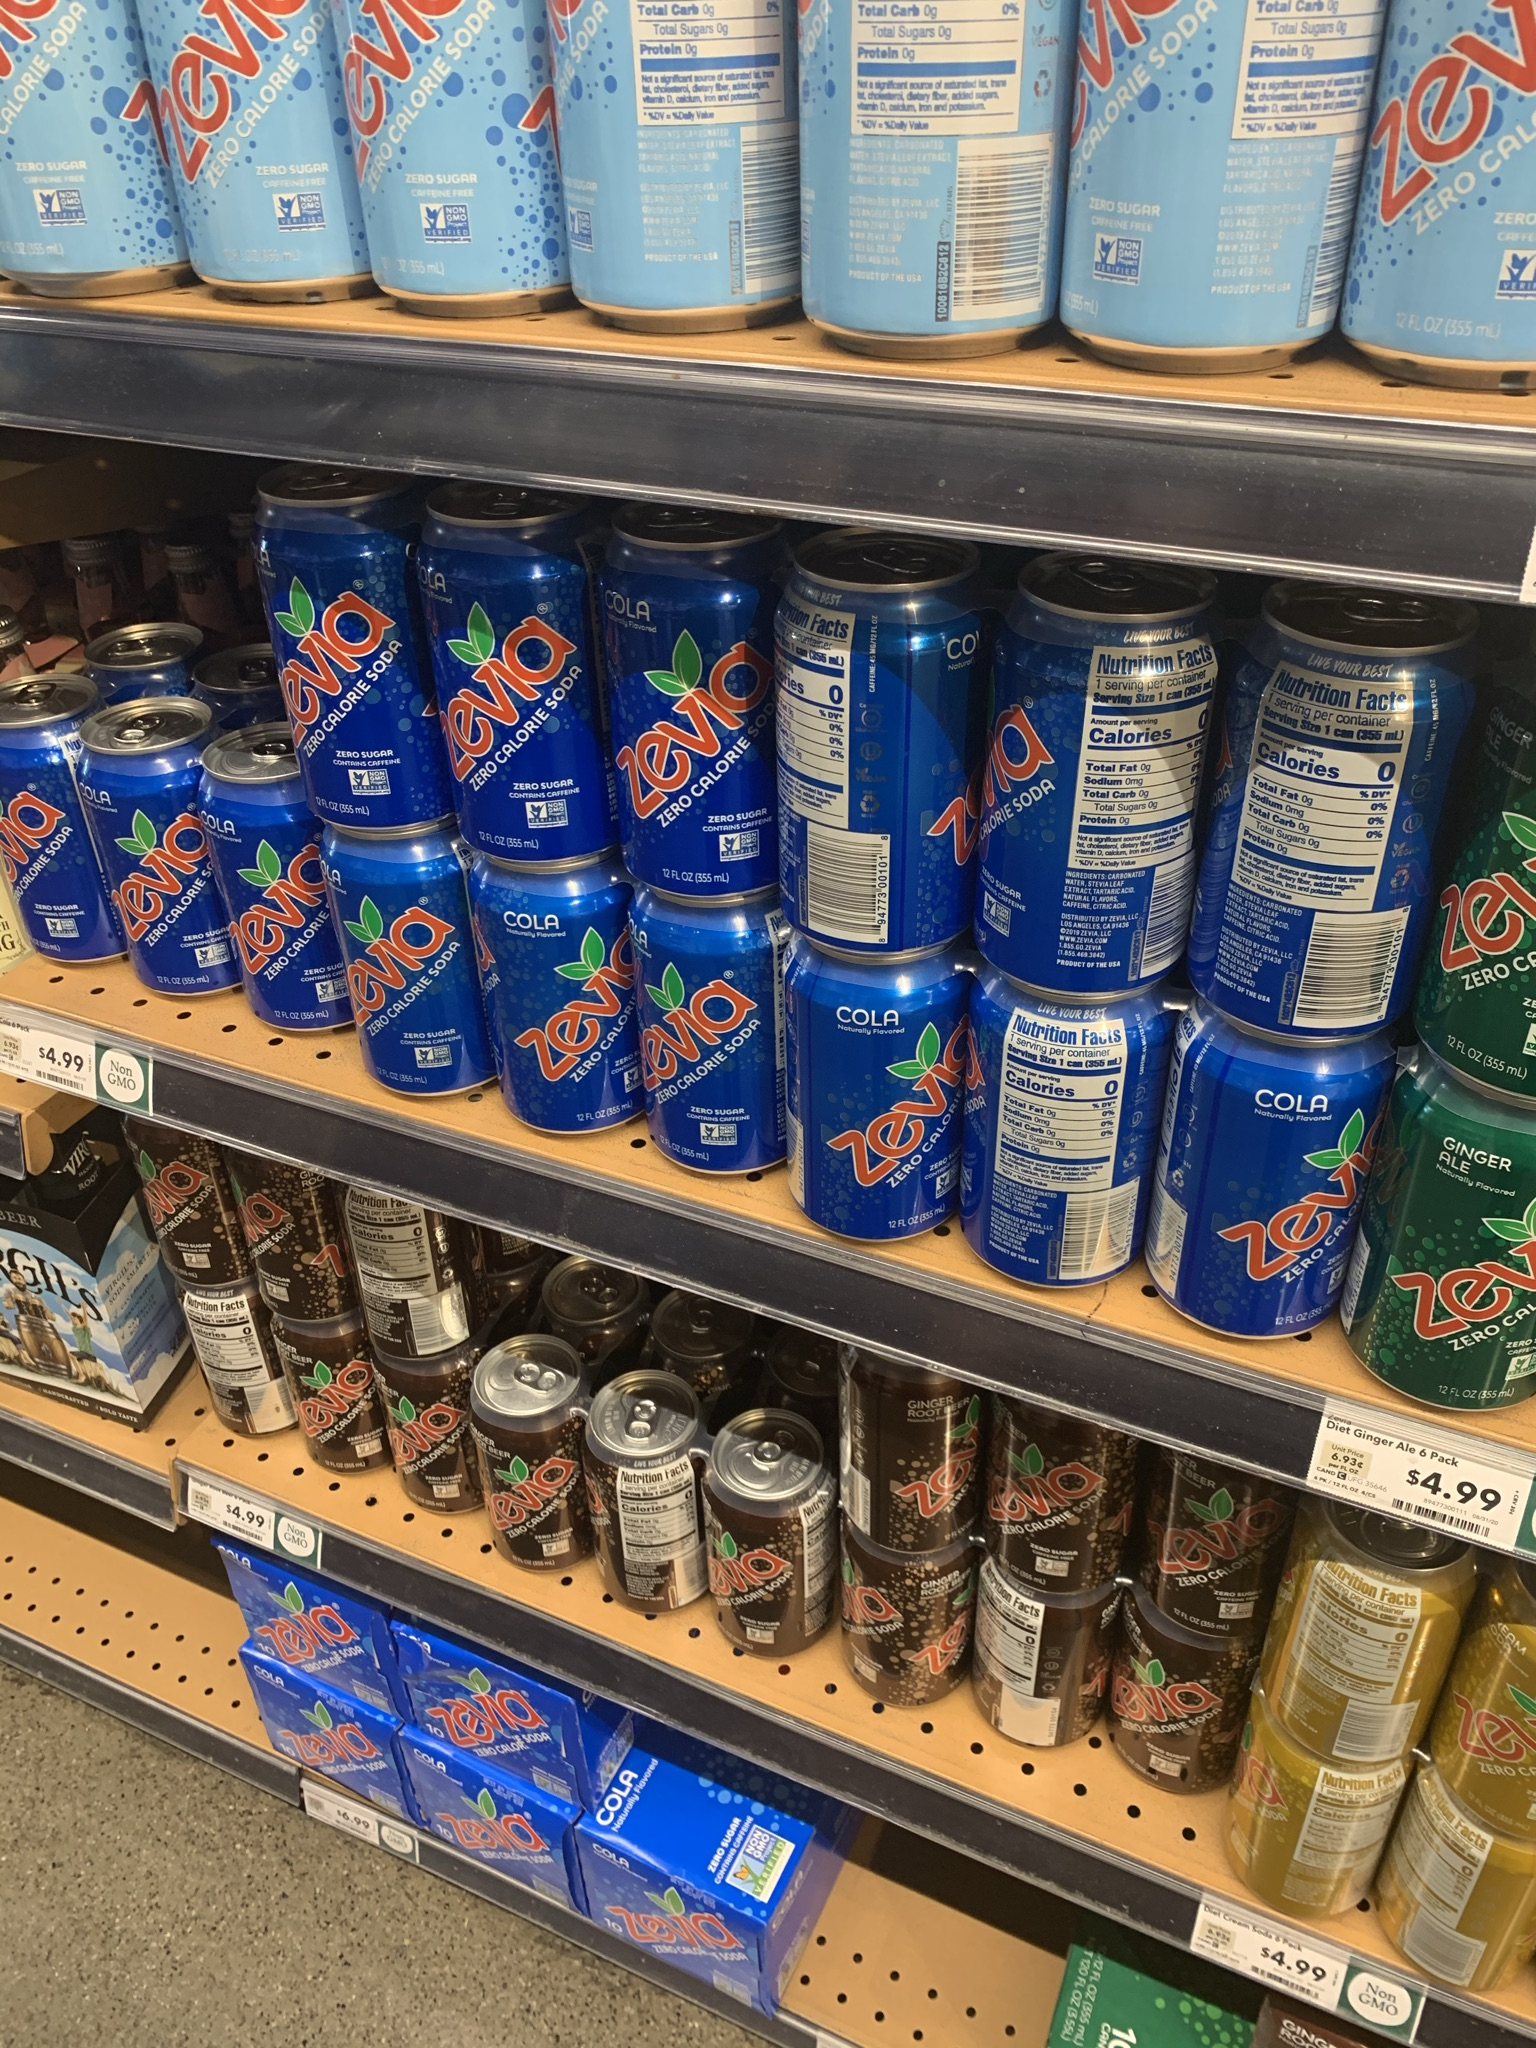zevia soda: (224, 1574, 579, 1924), (1007, 1424, 1220, 1756), (794, 561, 966, 947), (248, 505, 447, 814), (1008, 598, 1163, 984), (1175, 1009, 1342, 1329), (447, 511, 608, 839), (224, 1155, 392, 1461), (983, 989, 1142, 1297), (778, 943, 954, 1221), (310, 842, 489, 1111), (624, 534, 762, 864), (1254, 621, 1362, 1024), (466, 866, 642, 1111), (629, 897, 779, 1179), (342, 1185, 478, 1493), (858, 1366, 966, 1742), (197, 743, 332, 985), (720, 1447, 847, 1674), (594, 1405, 689, 1579), (499, 1421, 574, 1606), (89, 742, 168, 874)
